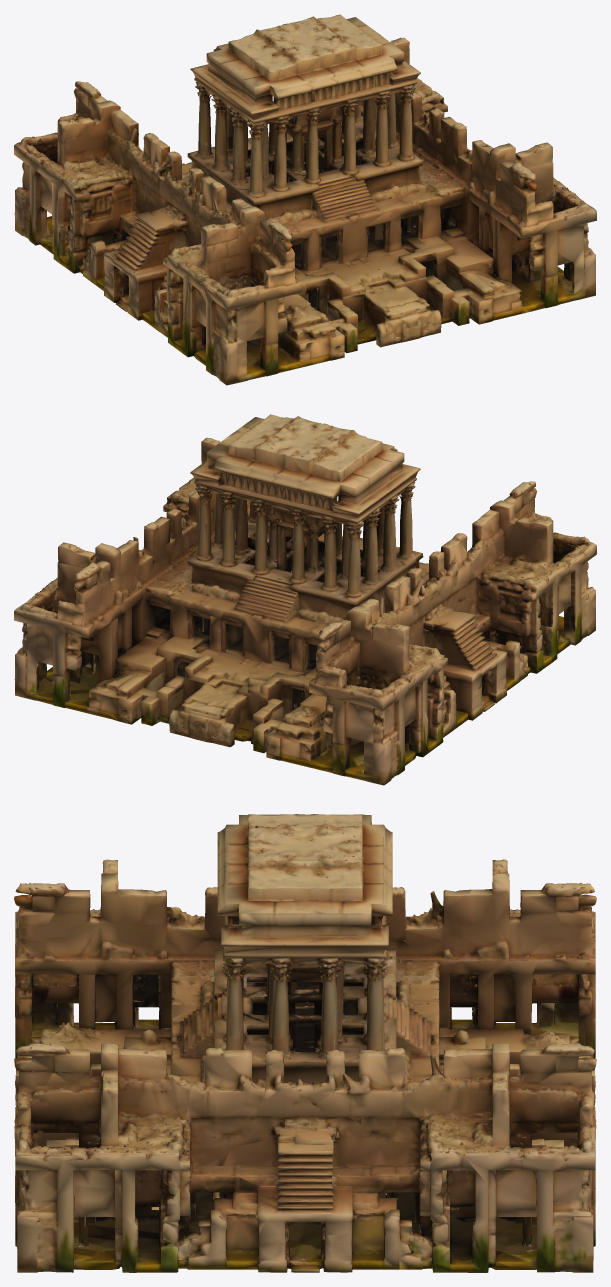
Rendered from A_very_large_ancient.glb.
3 renders of one model, top to bottom at view 1: azimuth 30°, elevation 25°; view 2: azimuth 150°, elevation 25°; view 3: azimuth 270°, elevation 25°, orthographic. The views are drawn at different scales.
Visible parts, largest first — view 1: A_very_large_ancient; view 2: A_very_large_ancient; view 3: A_very_large_ancient.
Part boxes in pixels (box(x1,y1,x2,y2)): A_very_large_ancient: box(14, 14, 596, 385); A_very_large_ancient: box(14, 414, 596, 785); A_very_large_ancient: box(14, 814, 596, 1272).
Bounding box in the file's own units: 1.9 × 1.11 × 1.91.
Materials: 1 (1 with a texture image).
